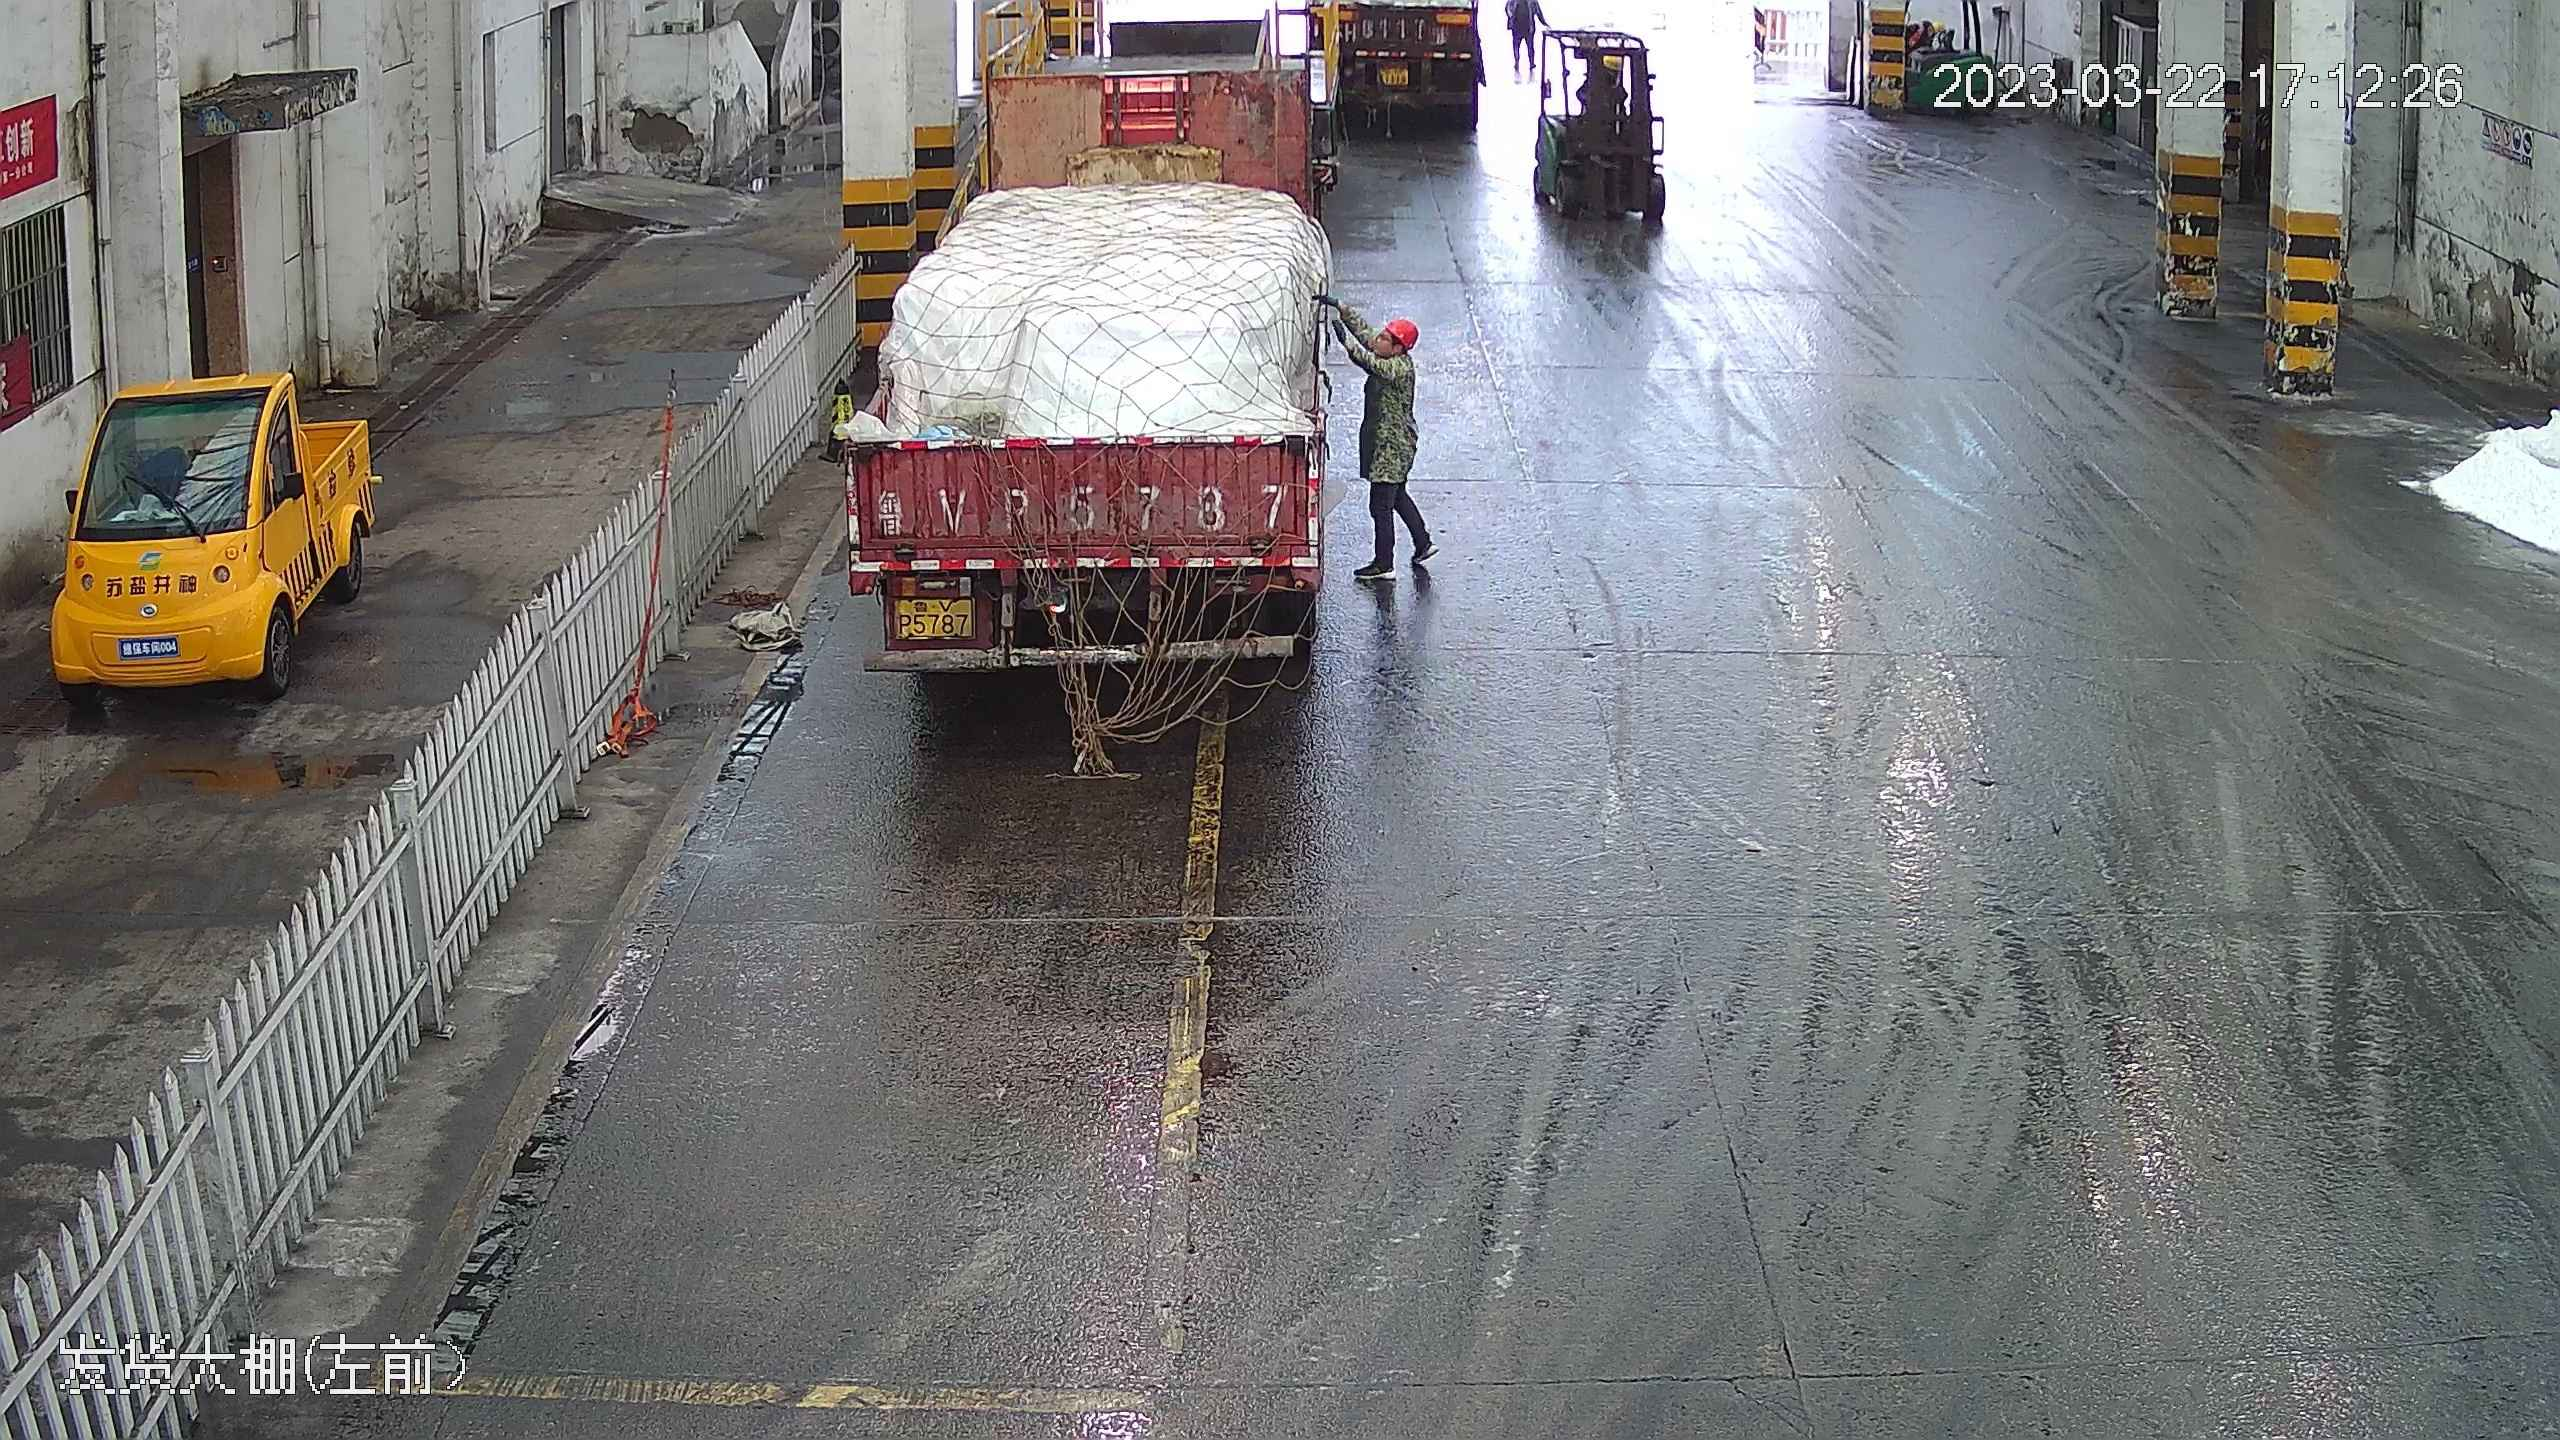head: (1355, 312, 1420, 400)
helmet: (1378, 312, 1414, 346)
people: (1345, 314, 1434, 606), (1507, 1, 1549, 76)
truck: (812, 1, 1339, 758)
